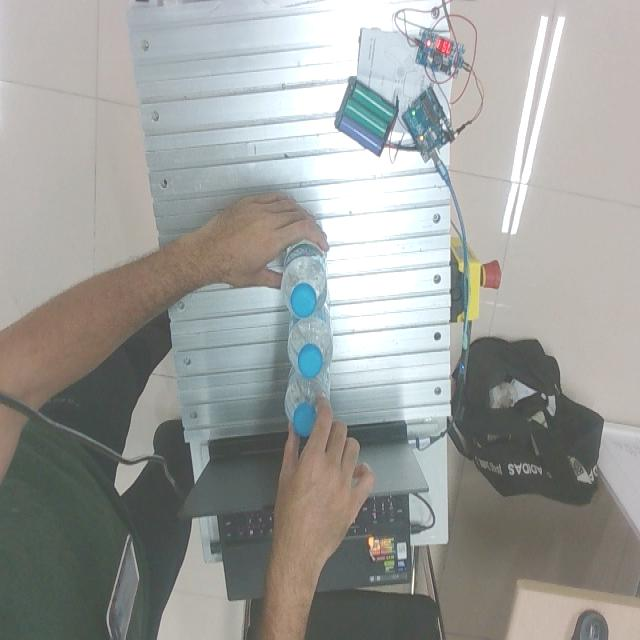lavie: (281, 242, 328, 322), (287, 300, 333, 380), (285, 365, 331, 432)
